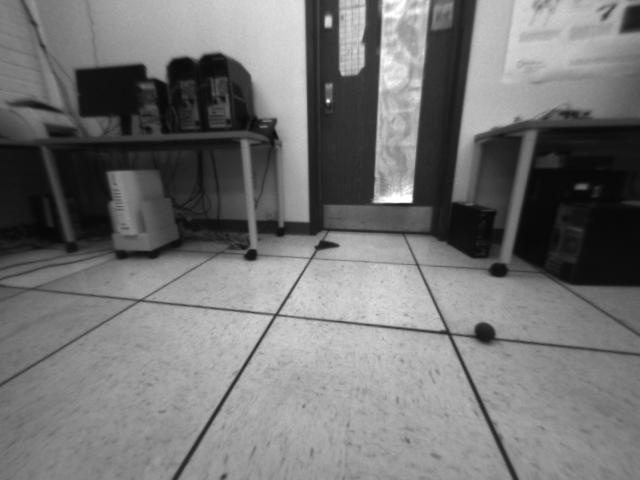dogtoy: (466, 317, 503, 347)
